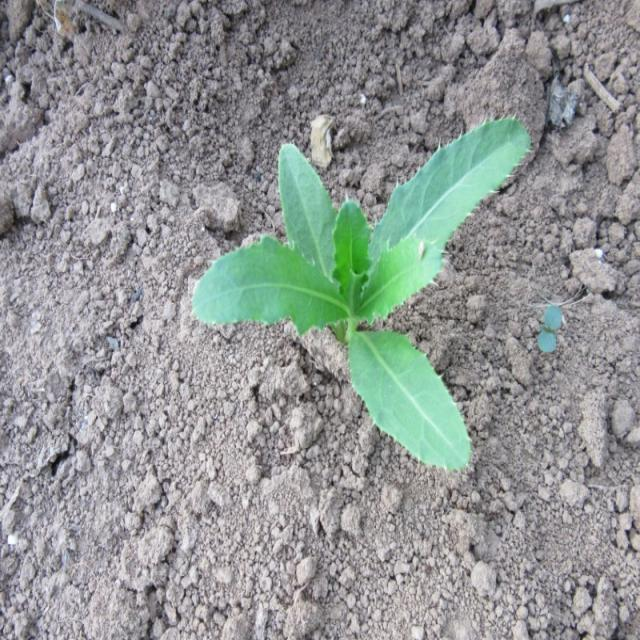cs: (188, 114, 535, 476)
